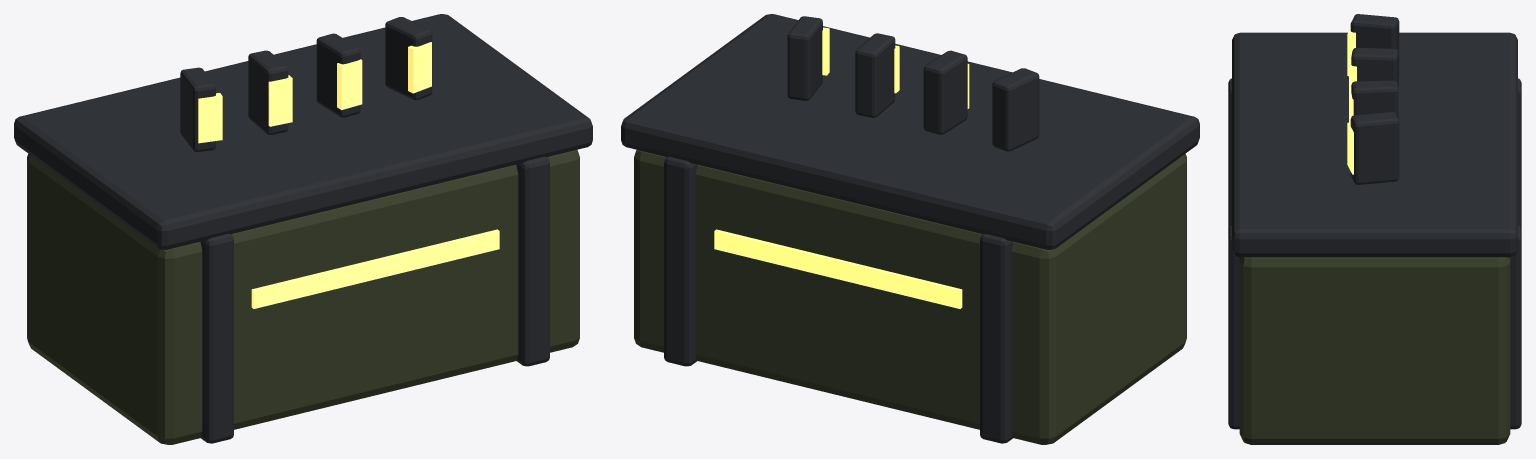
Rendered from ammo_station.glb.
The picture shows the model from 3 angles, left to right: view 1: azimuth 30°, elevation 25°; view 2: azimuth 150°, elevation 25°; view 3: azimuth 270°, elevation 25°; orthographic projection. The views are drawn at different scales.
Parts seen in each view (by area): view 1: Crate; view 2: Crate; view 3: Crate.
Boxes of the visible parts, box(x1,y1,x2,y2) form: Crate: box(14, 14, 592, 444); Crate: box(621, 14, 1199, 444); Crate: box(1228, 14, 1521, 444).
Size of the model in its own units: 1.24 by 0.81 by 0.76.
